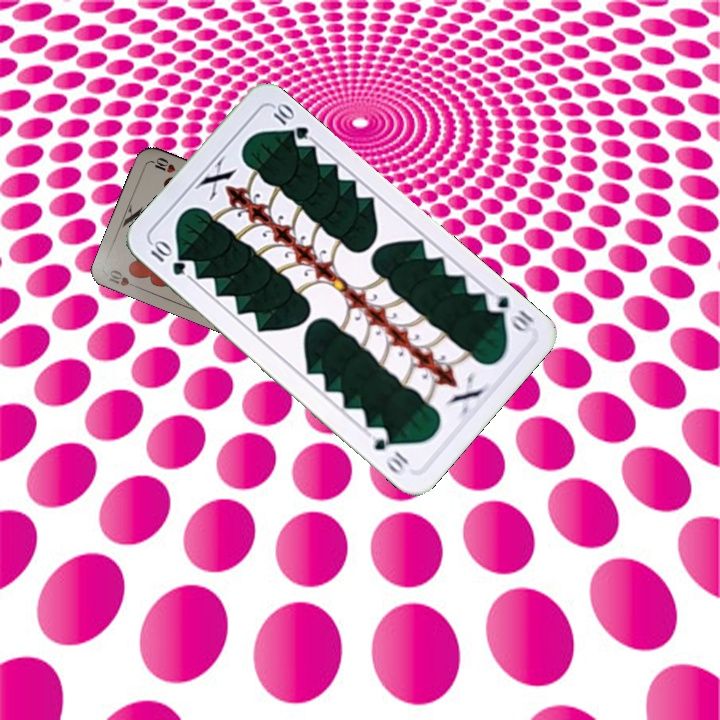G10: (481, 287, 537, 335), (146, 237, 188, 279)
H10: (104, 266, 143, 292)
